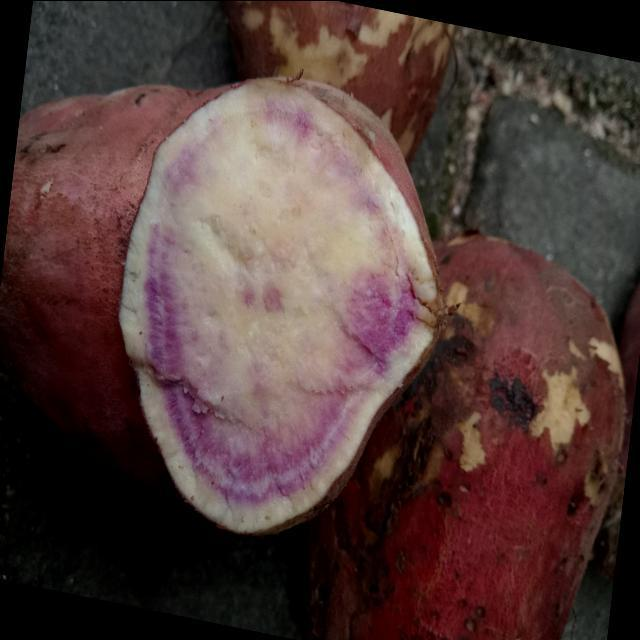Healthy Sweet Potato: (119, 77, 448, 533)
